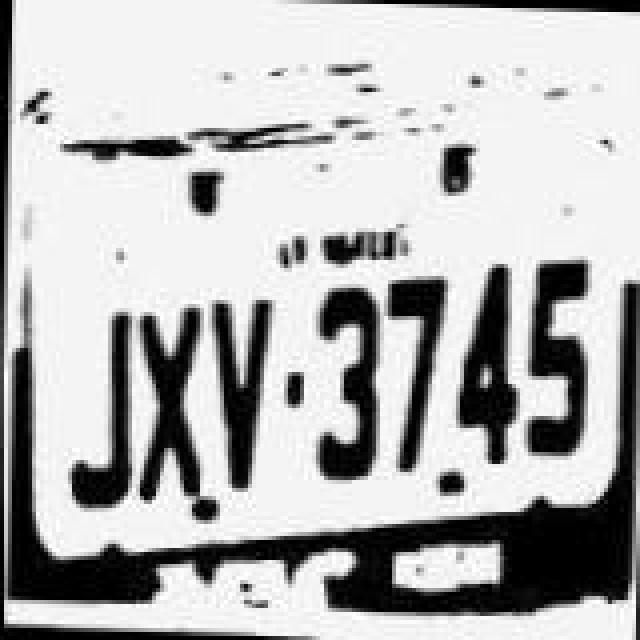3: (304, 268, 384, 516)
4: (450, 232, 530, 468)
5: (518, 234, 602, 486)
7: (376, 258, 448, 478)
J: (62, 280, 138, 512)
V: (200, 270, 272, 502)
X: (130, 274, 206, 498)
